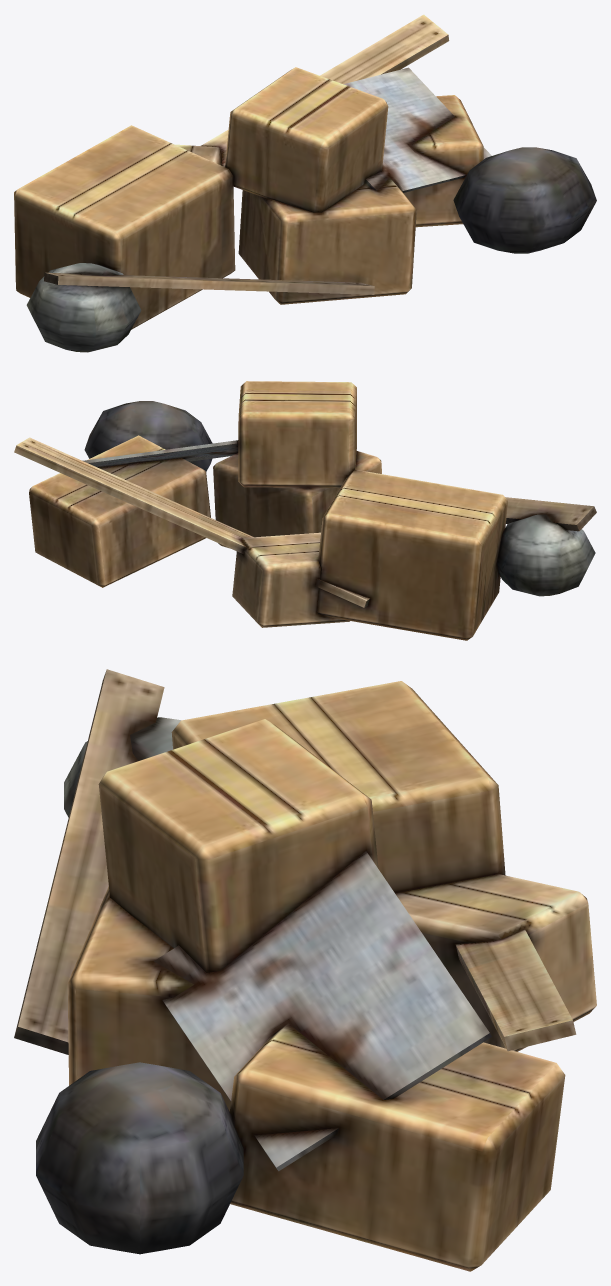
Rendered from cacamba_entulho.glb.
3 views of the same model, one above another, from view 1: azimuth 30°, elevation 25°; view 2: azimuth 150°, elevation 25°; view 3: azimuth 270°, elevation 25° (orthographic). The views are drawn at different scales.
Visible parts, largest first — view 1: cacamba_entulho; view 2: cacamba_entulho; view 3: cacamba_entulho.
Boxes of the visible parts, box(x1,y1,x2,y2) form: cacamba_entulho: box(14, 14, 596, 352); cacamba_entulho: box(14, 381, 596, 640); cacamba_entulho: box(14, 669, 596, 1271).
Size of the model in its own units: 2.2 by 0.6907 by 1.15.
1 material, 1 textured.
